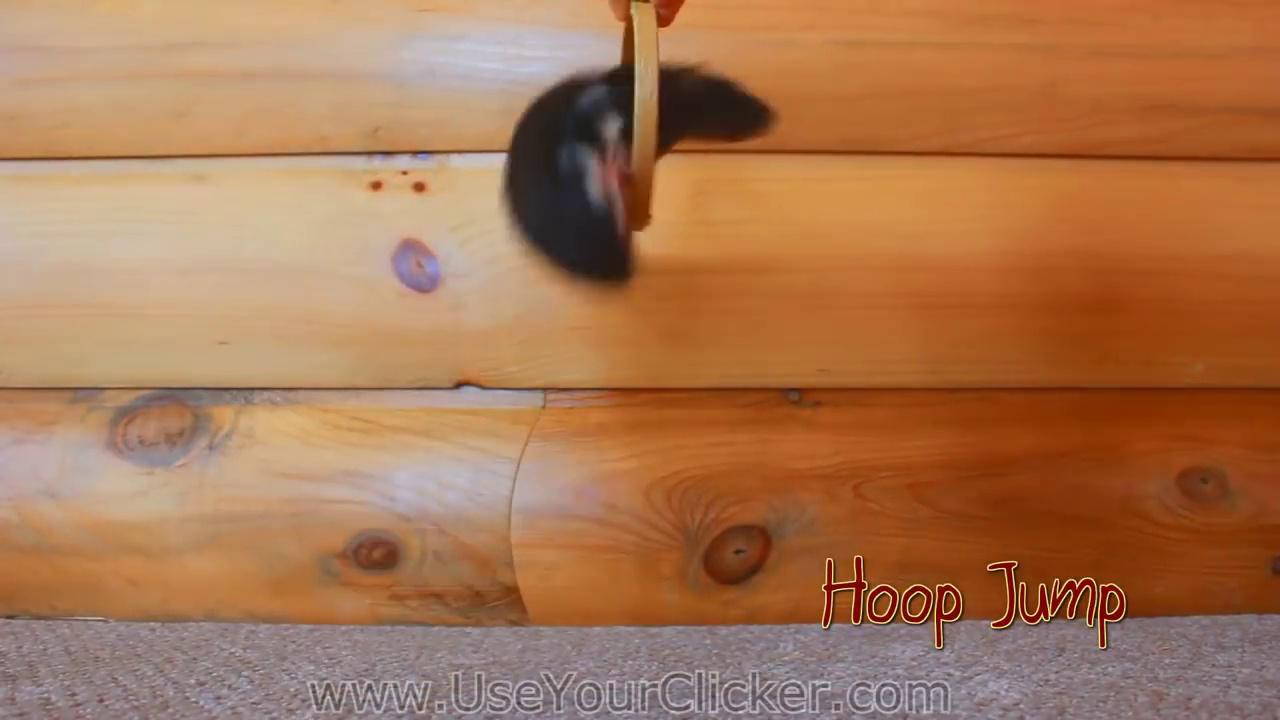rat: (498, 61, 776, 286)
